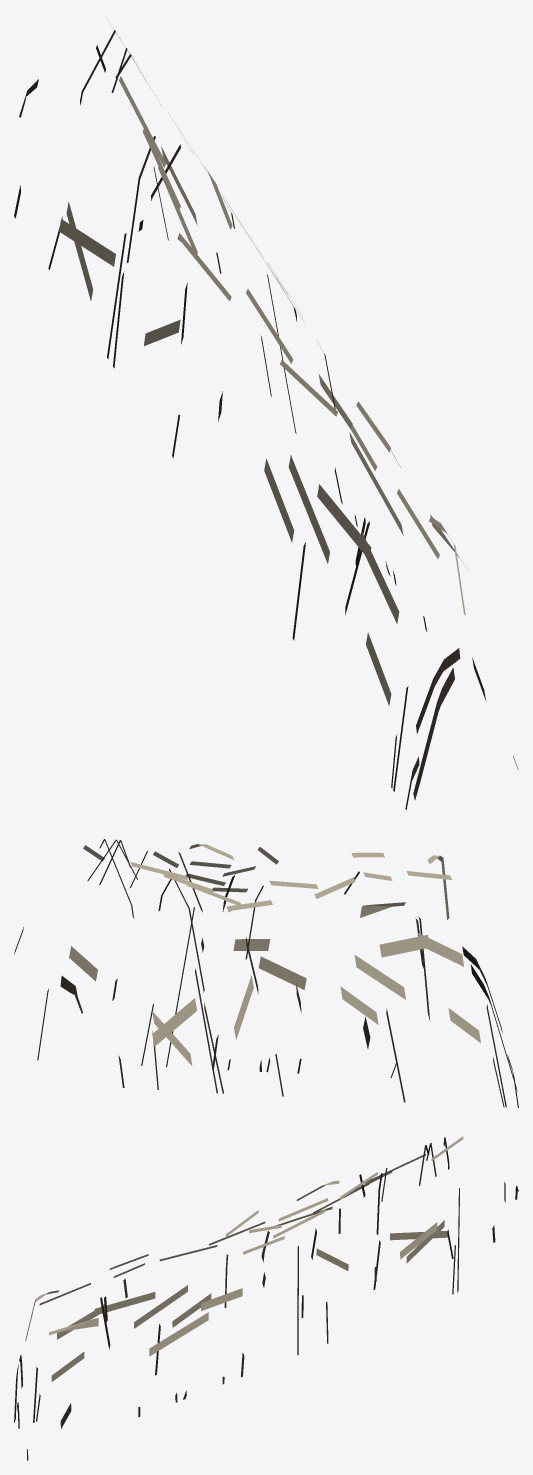
File: dam_eye_chute_east_detail1.glb
3 views of the same model, one above another, from view 1: azimuth 30°, elevation 25°; view 2: azimuth 150°, elevation 25°; view 3: azimuth 270°, elevation 25° (orthographic). The views are drawn at different scales.
Visible parts, largest first — view 1: dam_eye_chute_east_detail1; view 2: dam_eye_chute_east_detail1; view 3: dam_eye_chute_east_detail1.
Part boxes in pixels (x1,y1,x2,y2): dam_eye_chute_east_detail1: [14, 18, 518, 810]; dam_eye_chute_east_detail1: [14, 839, 518, 1107]; dam_eye_chute_east_detail1: [14, 1136, 518, 1460].
Size of the model in its own units: 8 by 32.84 by 48.23.
